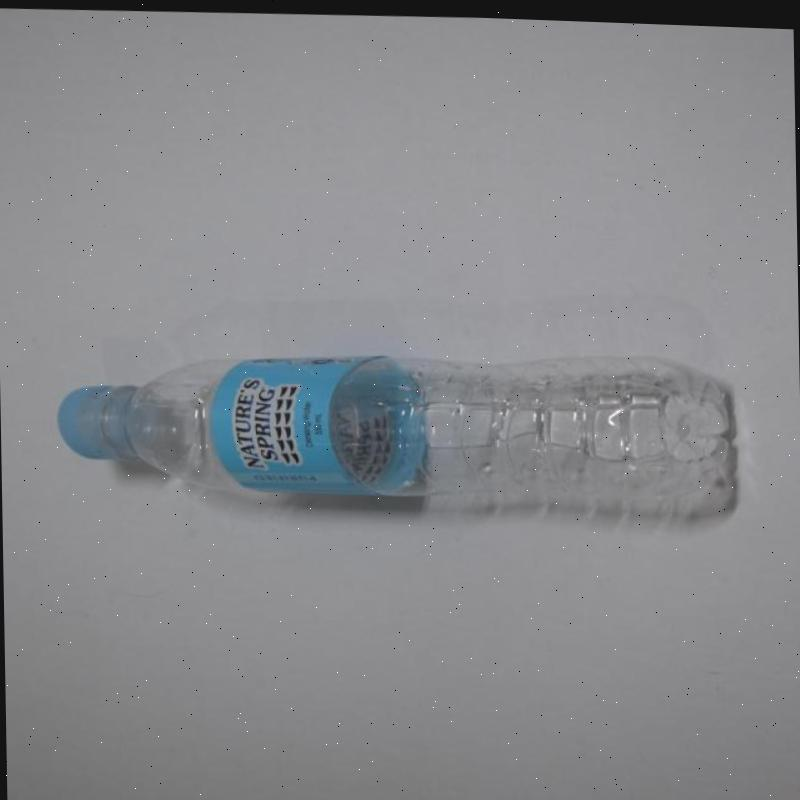botella: (57, 326, 732, 509)
